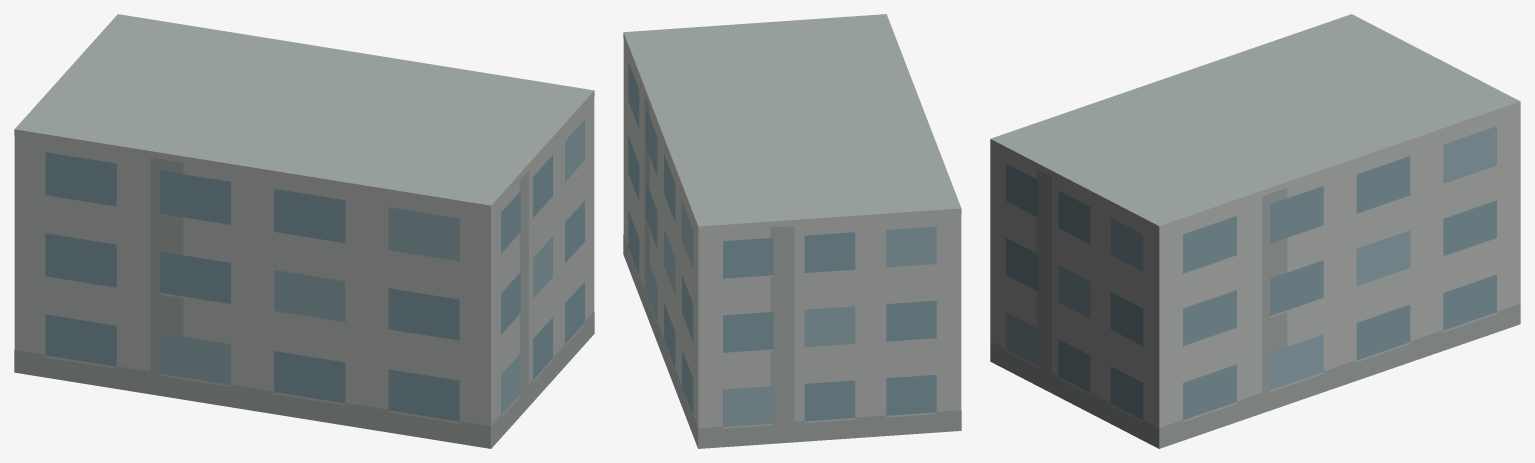
The model's file is residential-70d2e3c2-a31b-450e-b8b8-cc92846226f7.glb.
The picture shows the model from 3 angles, left to right: view 1: azimuth 30°, elevation 25°; view 2: azimuth 150°, elevation 25°; view 3: azimuth 270°, elevation 25°; orthographic projection. The views are drawn at different scales.
Parts seen in each view (by area): view 1: residential-70d2e3c2-a31b-450e-b8b8-cc92846226f7.tmp; view 2: residential-70d2e3c2-a31b-450e-b8b8-cc92846226f7.tmp; view 3: residential-70d2e3c2-a31b-450e-b8b8-cc92846226f7.tmp.
Boxes of the visible parts, x1,y1,x2,y2 form: residential-70d2e3c2-a31b-450e-b8b8-cc92846226f7.tmp: (14,14,594,448); residential-70d2e3c2-a31b-450e-b8b8-cc92846226f7.tmp: (623,14,961,448); residential-70d2e3c2-a31b-450e-b8b8-cc92846226f7.tmp: (990,14,1520,448).
Size of the model in its own units: 18.7 by 9.15 by 19.76.
